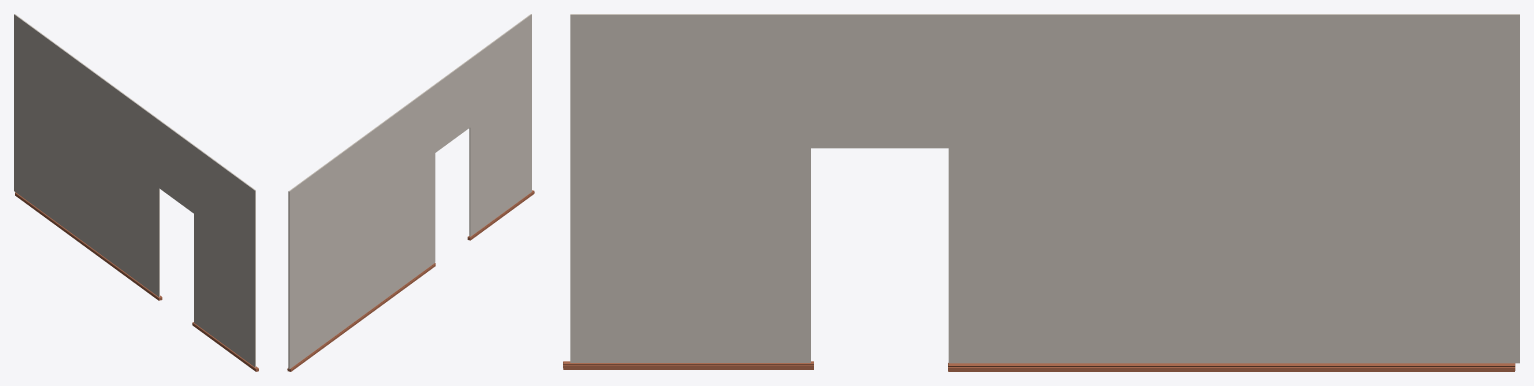
Rendered from ParedePorta.fbx.
The picture shows the model from 3 angles, left to right: view 1: azimuth 30°, elevation 25°; view 2: azimuth 150°, elevation 25°; view 3: azimuth 270°, elevation 25°; orthographic projection. The views are drawn at different scales.
Parts seen in each view (by area): view 1: Cube.005, Cube.044, Cube.048; view 2: Cube.005, Cube.044, Cube.048; view 3: Cube.005, Cube.044, Cube.048.
Part boxes in pixels (box(x1,y1,x2,y2)): Cube.005: box(14, 14, 255, 367); Cube.044: box(15, 192, 162, 300); Cube.048: box(192, 322, 258, 371); Cube.005: box(288, 14, 531, 369); Cube.044: box(287, 263, 435, 371); Cube.048: box(467, 190, 534, 240); Cube.005: box(570, 14, 1519, 363); Cube.044: box(948, 363, 1515, 371); Cube.048: box(563, 361, 813, 369).
Bounding box in the file's own units: 12.26 × 527 × 1286.
